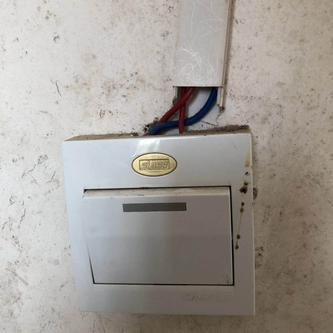switch: (77, 181, 242, 295)
